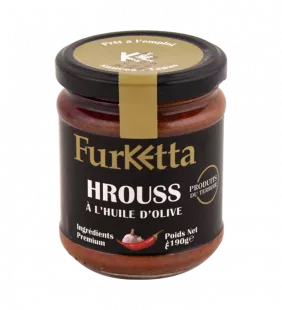FURKITTA: (44, 20, 236, 284)
